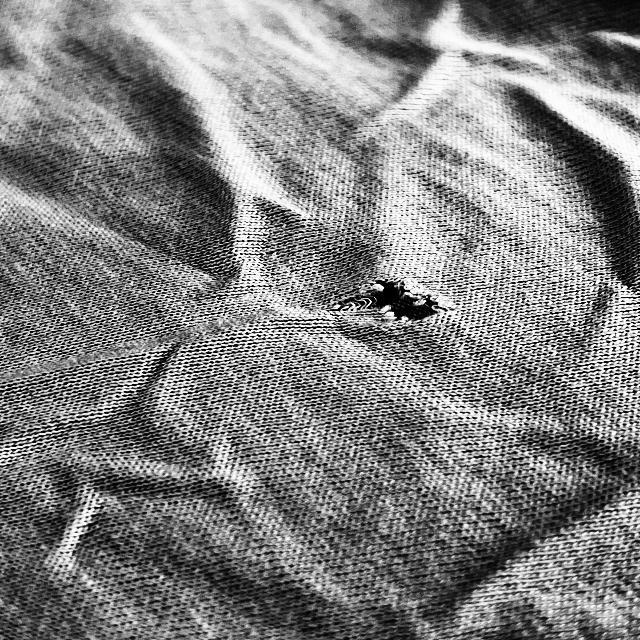Hole: (349, 278, 444, 340)
